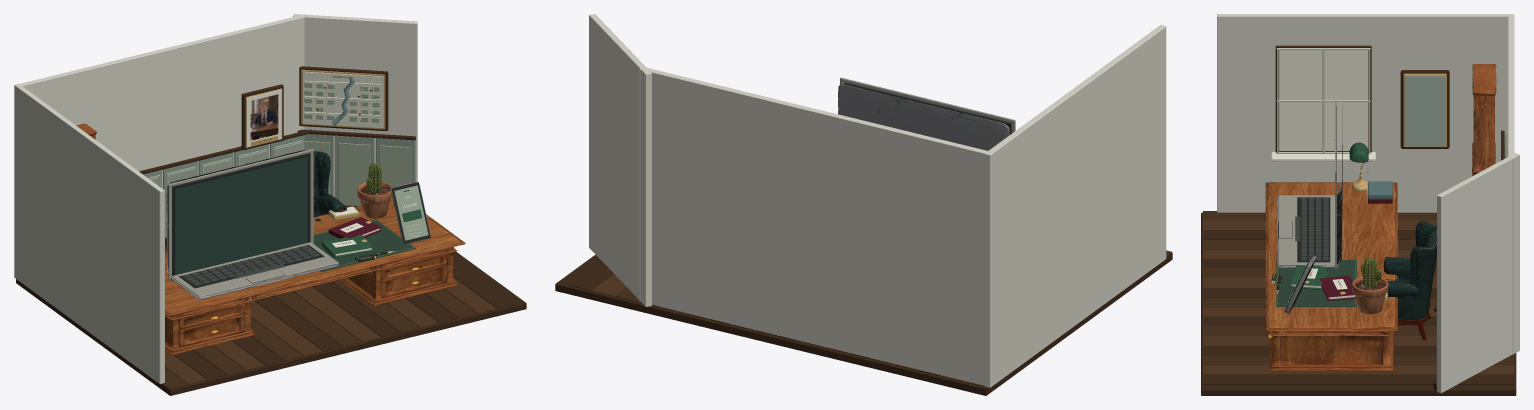
Rendered from office.glb.
3 views of the same model, side by side, from view 1: azimuth 30°, elevation 25°; view 2: azimuth 150°, elevation 25°; view 3: azimuth 270°, elevation 25° (orthographic). The views are drawn at different scales.
Visible parts, largest first — view 1: Room / Warm ivory plaster, Desk / Tripo desk / tripo_material_3639c06d-206c-4d56-9dcd-f, Laptop / Laptop dark green glass, Room / Dark walnut, Room / Walnut heartwood, Room / Walnut variation, Room / Panel inset, Laptop / Champagne anodised alloy, CityMap / Map parchment, Room / Sage wall panels, Laptop / Black lacquer, Laptop / Keycaps graphite (+15 smaller); view 2: Room / Warm ivory plaster, Room / Dark walnut, Laptop / Tripo laptop / tripo_material_35e5565a-8939-4e7d-8c, Laptop / Champagne anodised alloy, Room / Walnut heartwood, Laptop / Black lacquer; view 3: Room / Warm ivory plaster, Desk / Tripo desk / tripo_material_3639c06d-206c-4d56-9dcd-f, Room / Dark walnut, Room / Cotton paper, Room / Walnut heartwood, Room / Walnut variation, TripoChair / tripo_material_12dc6063-7ee7-4e71-881e-1b50bdf9, Mirror / Mirror silver, Bookshelf / Tripo archive / tripo_material_425ec1d0-6d25-4bb, Laptop / Champagne anodised alloy, Room / Deep olive leather, Laptop / Keycaps graphite (+11 smaller).
Part boxes in pixels (x1=…): Room / Warm ivory plaster: x1=14, y1=14, x2=417, y2=384; Desk / Tripo desk / tripo_material_3639c06d-206c-4d56-9dcd-f: x1=165, y1=198, x2=465, y2=355; Laptop / Laptop dark green glass: x1=175, y1=157, x2=307, y2=275; Room / Dark walnut: x1=16, y1=129, x2=526, y2=395; Room / Walnut heartwood: x1=165, y1=246, x2=496, y2=384; Room / Walnut variation: x1=162, y1=264, x2=477, y2=388; Room / Panel inset: x1=149, y1=141, x2=411, y2=205; Laptop / Champagne anodised alloy: x1=168, y1=149, x2=338, y2=297; CityMap / Map parchment: x1=302, y1=71, x2=383, y2=128; Room / Sage wall panels: x1=143, y1=134, x2=415, y2=237; Laptop / Black lacquer: x1=172, y1=153, x2=324, y2=288; Laptop / Keycaps graphite: x1=182, y1=245, x2=319, y2=285; Room / Warm ivory plaster: x1=589, y1=14, x2=1166, y2=387; Room / Dark walnut: x1=555, y1=252, x2=1172, y2=395; Laptop / Tripo laptop / tripo_material_35e5565a-8939-4e7d-8c: x1=838, y1=84, x2=1009, y2=150; Laptop / Champagne anodised alloy: x1=840, y1=77, x2=1015, y2=133; Room / Walnut heartwood: x1=591, y1=274, x2=964, y2=381; Laptop / Black lacquer: x1=844, y1=82, x2=1011, y2=145; Room / Warm ivory plaster: x1=1217, y1=14, x2=1519, y2=393; Desk / Tripo desk / tripo_material_3639c06d-206c-4d56-9dcd-f: x1=1265, y1=182, x2=1397, y2=371; Room / Dark walnut: x1=1201, y1=45, x2=1516, y2=395; Room / Cotton paper: x1=1271, y1=50, x2=1375, y2=161; Room / Walnut heartwood: x1=1203, y1=220, x2=1514, y2=374; Room / Walnut variation: x1=1203, y1=211, x2=1514, y2=364; TripoChair / tripo_material_12dc6063-7ee7-4e71-881e-1b50bdf9: x1=1383, y1=221, x2=1436, y2=340; Mirror / Mirror silver: x1=1405, y1=75, x2=1445, y2=146; Bookshelf / Tripo archive / tripo_material_425ec1d0-6d25-4bb: x1=1472, y1=64, x2=1496, y2=175; Laptop / Champagne anodised alloy: x1=1278, y1=100, x2=1337, y2=268; Room / Deep olive leather: x1=1276, y1=259, x2=1356, y2=306; Laptop / Keycaps graphite: x1=1295, y1=197, x2=1328, y2=260.
Size of the model in its own units: 12.37 by 6.42 by 9.1.
Materials: 33 (7 with a texture image).
